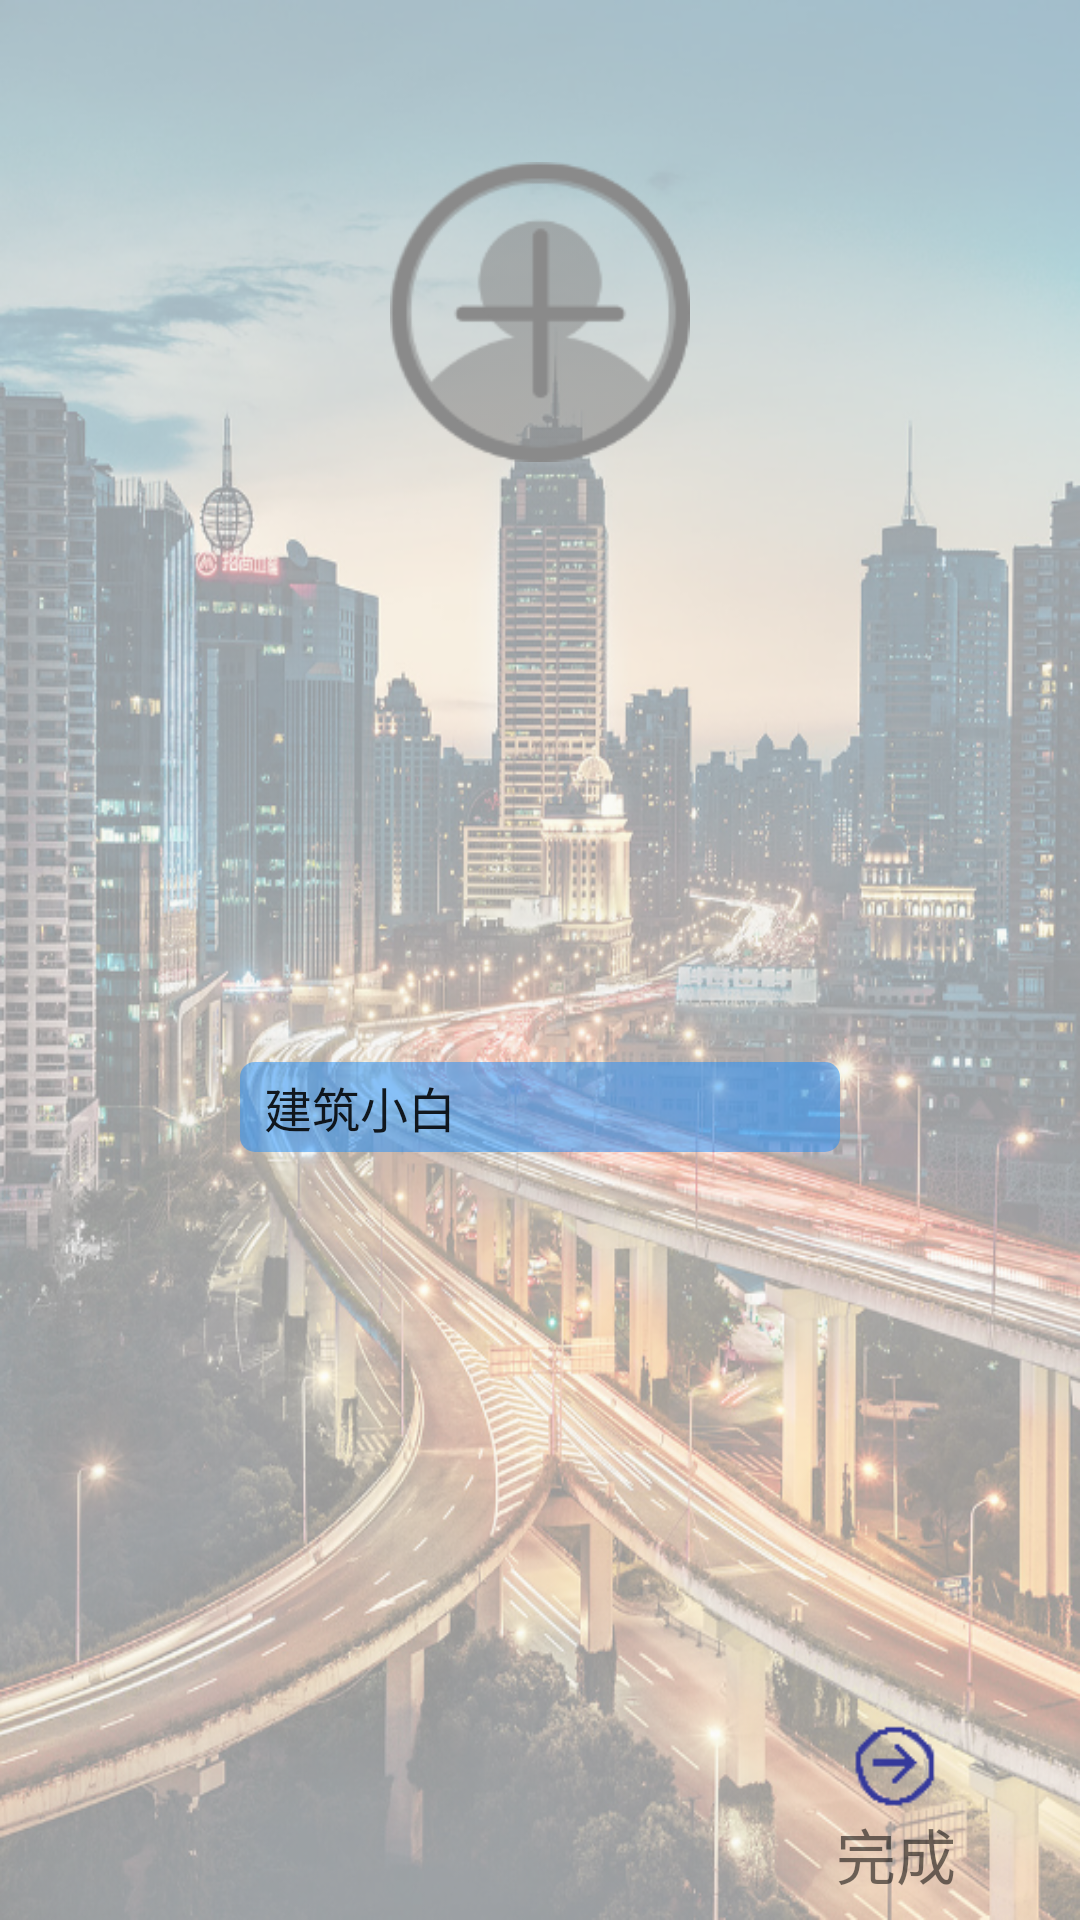

Icon click points for this 1080×1920 phone screenshot, format [x,y]:
next: [896,1765]
touxiang: [540,312]
